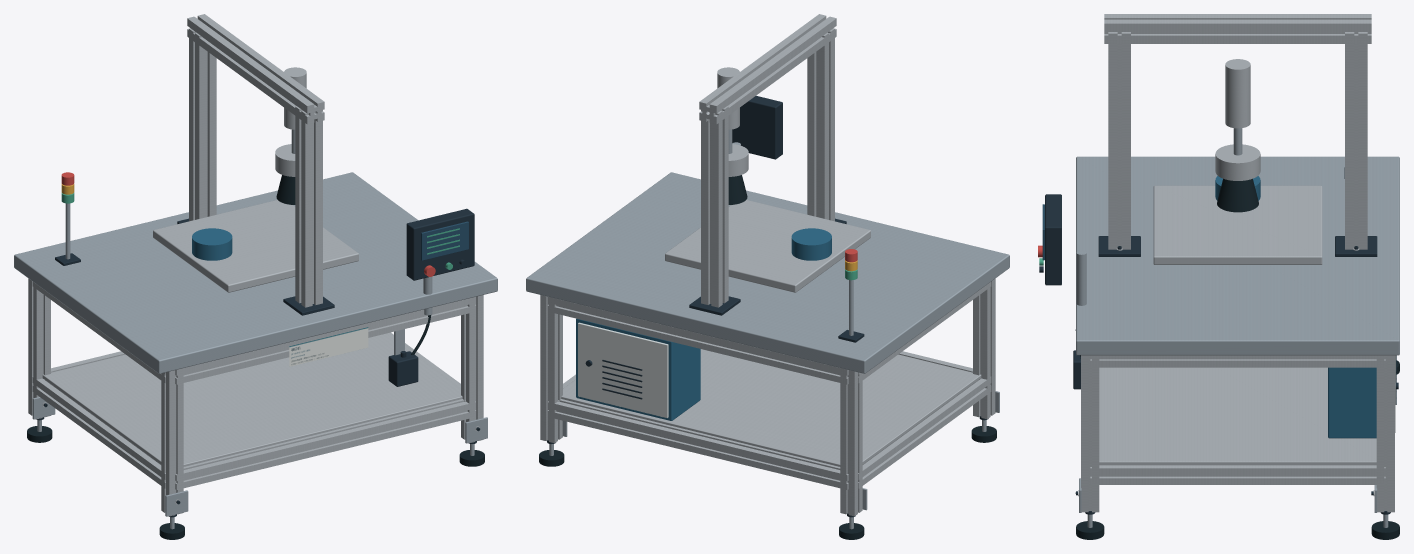
File: pad-print-press.glb
3 views of the same model, side by side, from view 1: azimuth 30°, elevation 25°; view 2: azimuth 150°, elevation 25°; view 3: azimuth 270°, elevation 25° (orthographic). The views are drawn at different scales.
Parts seen in each view (by area): view 1: ClosedMachineBed_40, LowerShelf_41, ClicheTable_82, SlottedExtrusion_34, SlottedExtrusion_76, SlottedExtrusion_71, SlottedExtrusion_81, SlottedExtrusion_35, SlottedExtrusion_11, SlottedExtrusion_36, SlottedExtrusion_27, ConsoleBack_52 (+7 smaller); view 2: ClosedMachineBed_40, LowerShelf_41, ClicheTable_82, BackDoor_43, SlottedExtrusion_32, SlottedExtrusion_71, SlottedExtrusion_76, SlottedExtrusion_33, SlottedExtrusion_81, SlottedExtrusion_3, Cabinet_42, SlottedExtrusion_19 (+6 smaller); view 3: ClosedMachineBed_40, LowerShelf_41, ClicheTable_82, SlottedExtrusion_81, SlottedExtrusion_38, SlottedExtrusion_71, SlottedExtrusion_76, SlottedExtrusion_39, Cabinet_42, SlottedExtrusion_19, SlottedExtrusion_27, PadActuator_86 (+8 smaller).
Boxes of the visible parts, left/top/right/bottom form: ClosedMachineBed_40: left=14, top=172, right=497, bottom=373; LowerShelf_41: left=42, top=333, right=462, bottom=466; ClicheTable_82: left=153, top=200, right=358, bottom=292; SlottedExtrusion_34: left=175, top=399, right=476, bottom=489; SlottedExtrusion_76: left=295, top=106, right=322, bottom=307; SlottedExtrusion_71: left=189, top=28, right=216, bottom=221; SlottedExtrusion_81: left=187, top=14, right=324, bottom=124; SlottedExtrusion_35: left=175, top=297, right=476, bottom=384; SlottedExtrusion_11: left=161, top=368, right=183, bottom=516; SlottedExtrusion_36: left=32, top=377, right=165, bottom=488; SlottedExtrusion_27: left=461, top=295, right=483, bottom=443; ConsoleBack_52: left=406, top=208, right=474, bottom=280; ClosedMachineBed_40: left=526, top=172, right=1009, bottom=373; LowerShelf_41: left=561, top=349, right=981, bottom=466; ClicheTable_82: left=665, top=200, right=870, bottom=292; BackDoor_43: left=578, top=322, right=668, bottom=418; SlottedExtrusion_32: left=547, top=399, right=848, bottom=489; SlottedExtrusion_71: left=701, top=106, right=728, bottom=307; SlottedExtrusion_76: left=807, top=28, right=834, bottom=221; SlottedExtrusion_33: left=547, top=297, right=848, bottom=384; SlottedExtrusion_81: left=699, top=14, right=836, bottom=124; SlottedExtrusion_3: left=840, top=369, right=862, bottom=516; Cabinet_42: left=576, top=318, right=700, bottom=420; SlottedExtrusion_19: left=540, top=295, right=562, bottom=443; ClosedMachineBed_40: left=1076, top=156, right=1399, bottom=355; LowerShelf_41: left=1099, top=367, right=1376, bottom=465; ClicheTable_82: left=1153, top=185, right=1322, bottom=264; SlottedExtrusion_81: left=1104, top=14, right=1371, bottom=43; SlottedExtrusion_38: left=1090, top=465, right=1385, bottom=484; SlottedExtrusion_71: left=1345, top=32, right=1367, bottom=249; SlottedExtrusion_76: left=1108, top=32, right=1130, bottom=249; SlottedExtrusion_39: left=1090, top=355, right=1385, bottom=367; Cabinet_42: left=1328, top=367, right=1376, bottom=438; SlottedExtrusion_19: left=1376, top=355, right=1394, bottom=512; SlottedExtrusion_27: left=1081, top=355, right=1099, bottom=512; PadActuator_86: left=1225, top=59, right=1250, bottom=128.
Bounding box in the file's own units: 1.55 × 1.7 × 1.29.
11 materials, 3 textured.
